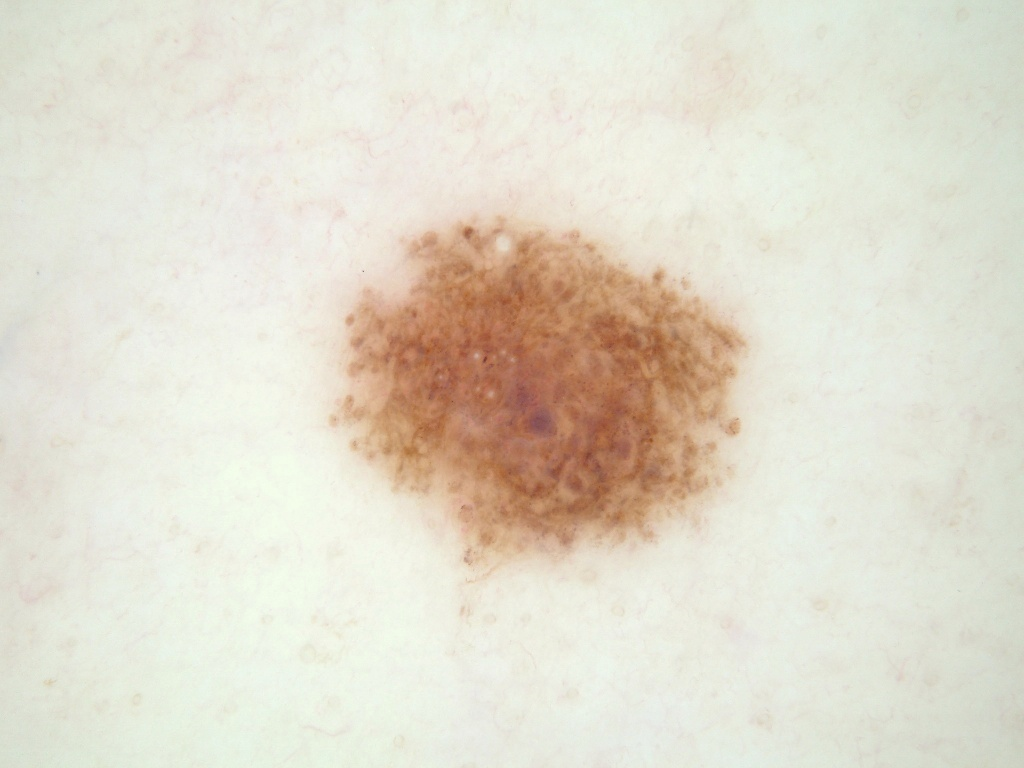Detected Lesion: (321, 210, 756, 571)
